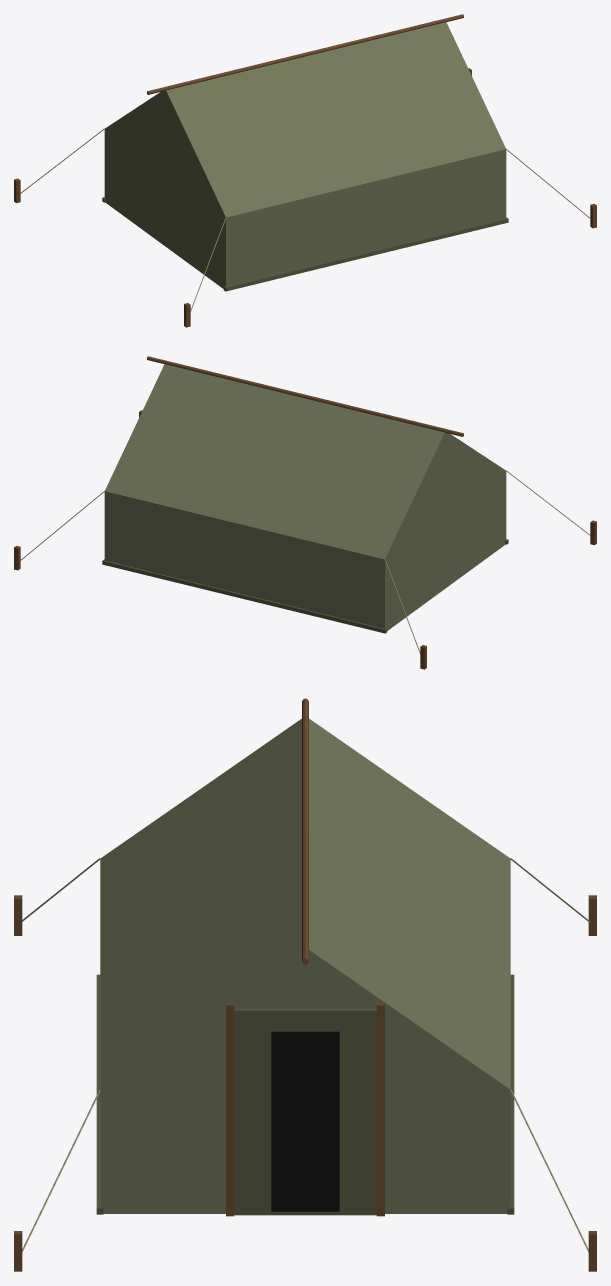
File: SM_Tienda_Militar.fbx
The picture shows the model from 3 angles, top to bottom: view 1: azimuth 30°, elevation 25°; view 2: azimuth 150°, elevation 25°; view 3: azimuth 270°, elevation 25°; orthographic projection. The views are drawn at different scales.
Visible parts, largest first — view 1: SM_Tienda_Militar; view 2: SM_Tienda_Militar; view 3: SM_Tienda_Militar.
Boxes of the visible parts, box(x1,y1,x2,y2) form: SM_Tienda_Militar: box(14, 14, 596, 327); SM_Tienda_Militar: box(14, 356, 596, 669); SM_Tienda_Militar: box(14, 698, 596, 1271).
Size of what is drawn, in the model's own units: 5.86 by 4.26 by 2.21.
